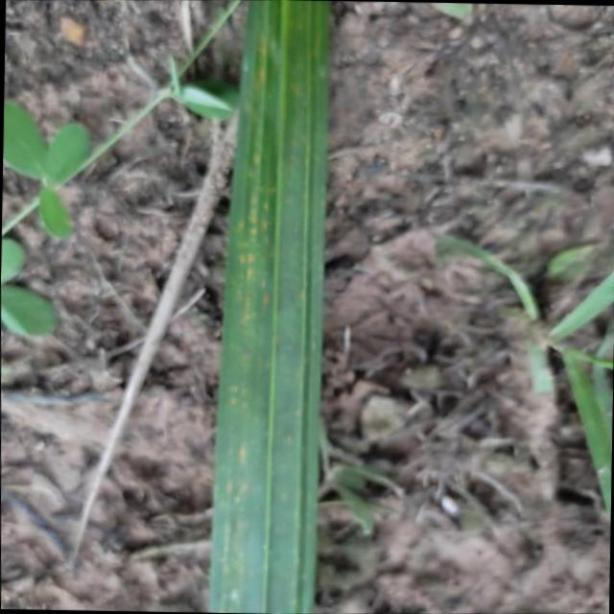Kalium: (206, 0, 331, 614)
